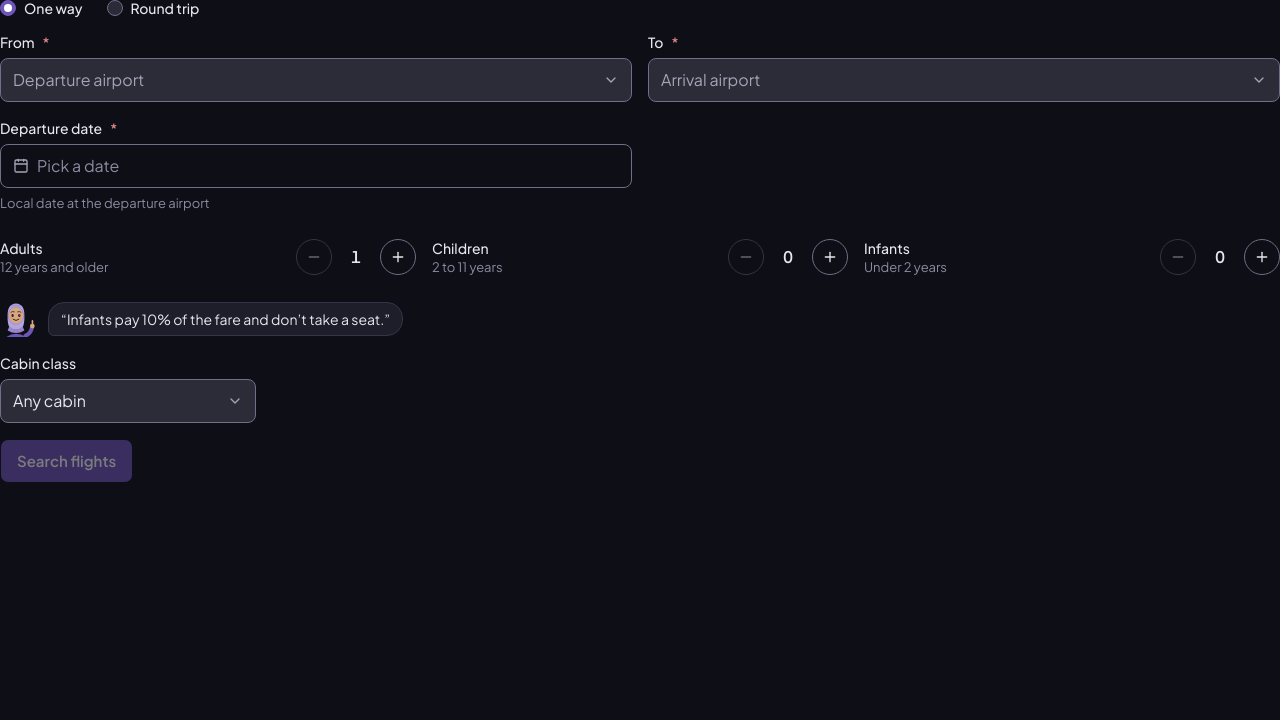
Test case: days before today cannot be picked as departure date
Click the button named "departure date": x=78, y=166 [0,144,632,188]
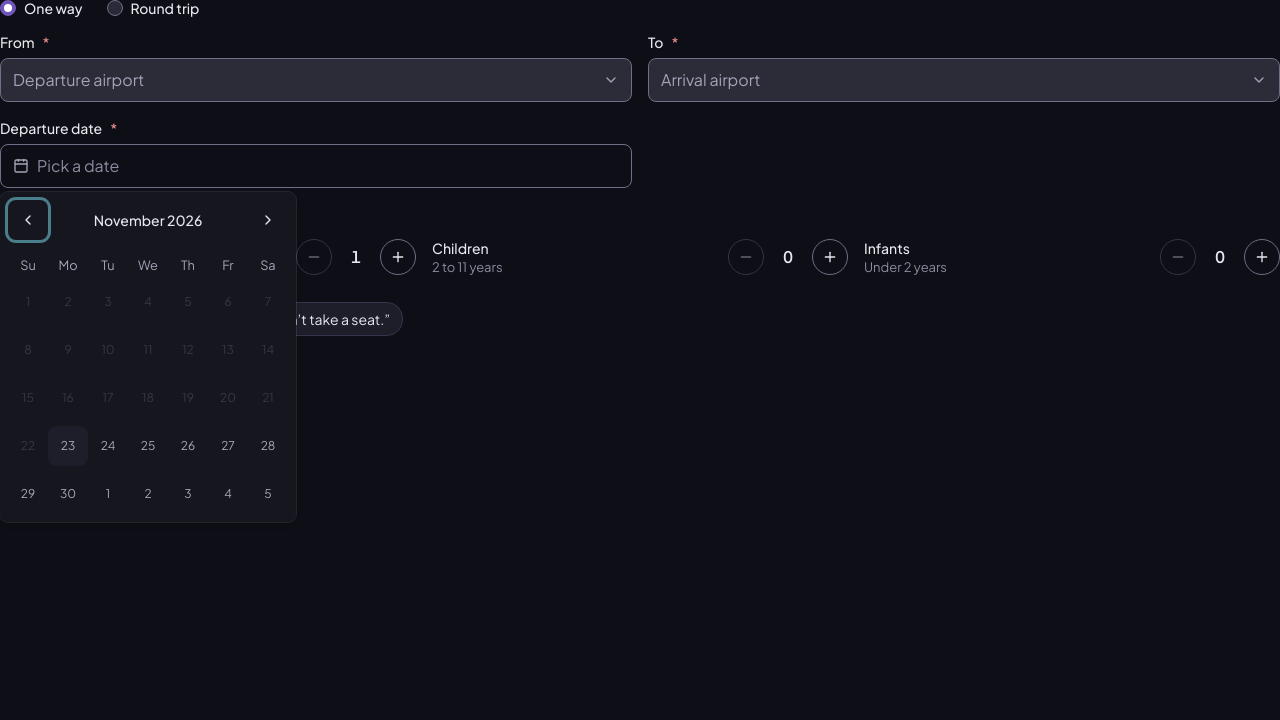
Check: the button named "November 22nd, 2026" is disabled, box [8,426,48,466]
